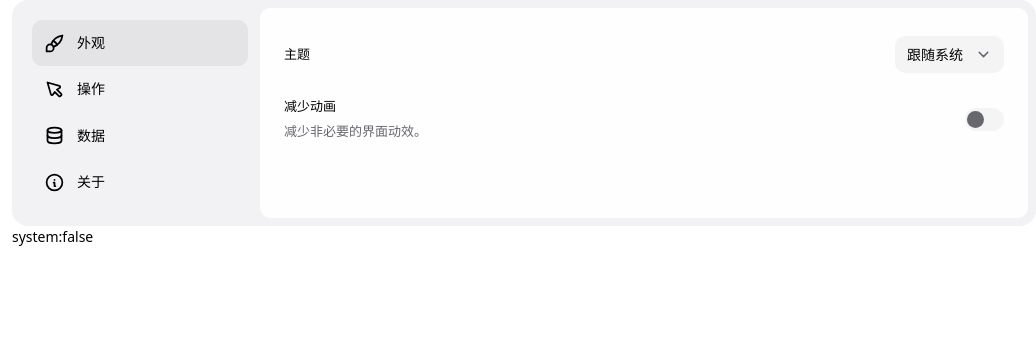
软件设置直接应用 › 失败后撤销本次应用恢复 confirmed 外观
Click the dropdown named "主题": (950,54) [895,36,1004,73]
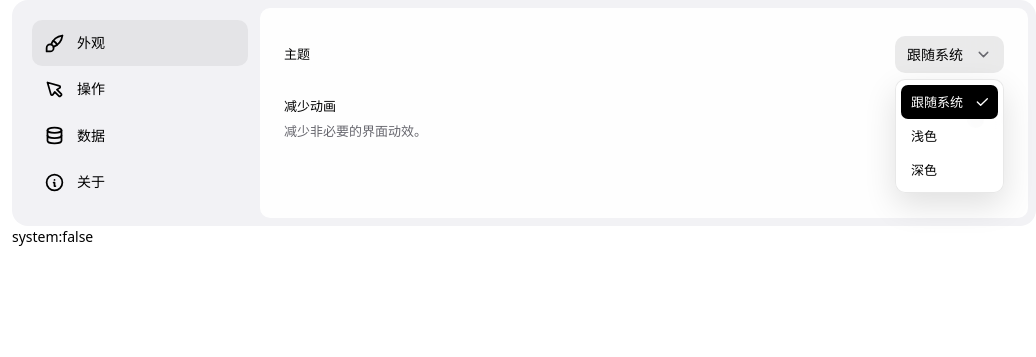
Click the option "深色": (924,170) [911,161,937,179]
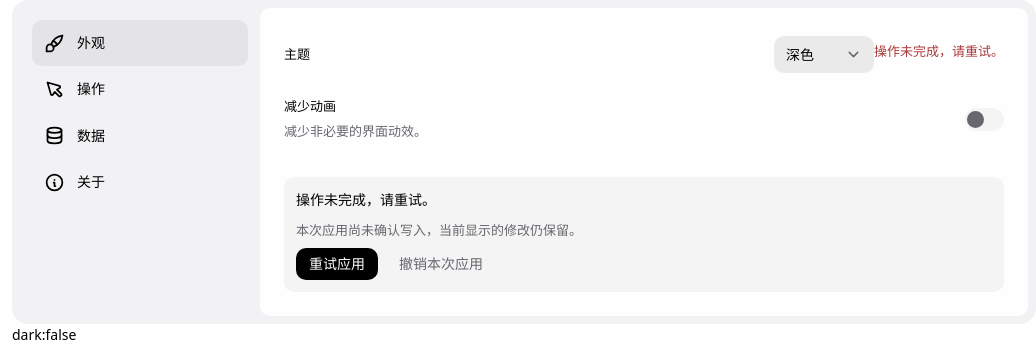
Expected: the button "撤销本次应用" is shown
Click the button "撤销本次应用": (441,264) [386,248,496,280]
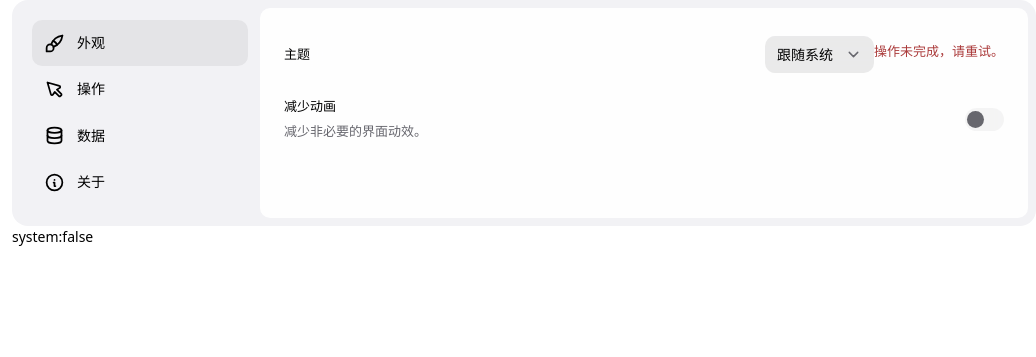
Expected: the dropdown named "主题" reads "跟随系统", [765,36,874,73]
Expected: the text with test id "appearance-preview" shows "system", [12,227,59,246]
